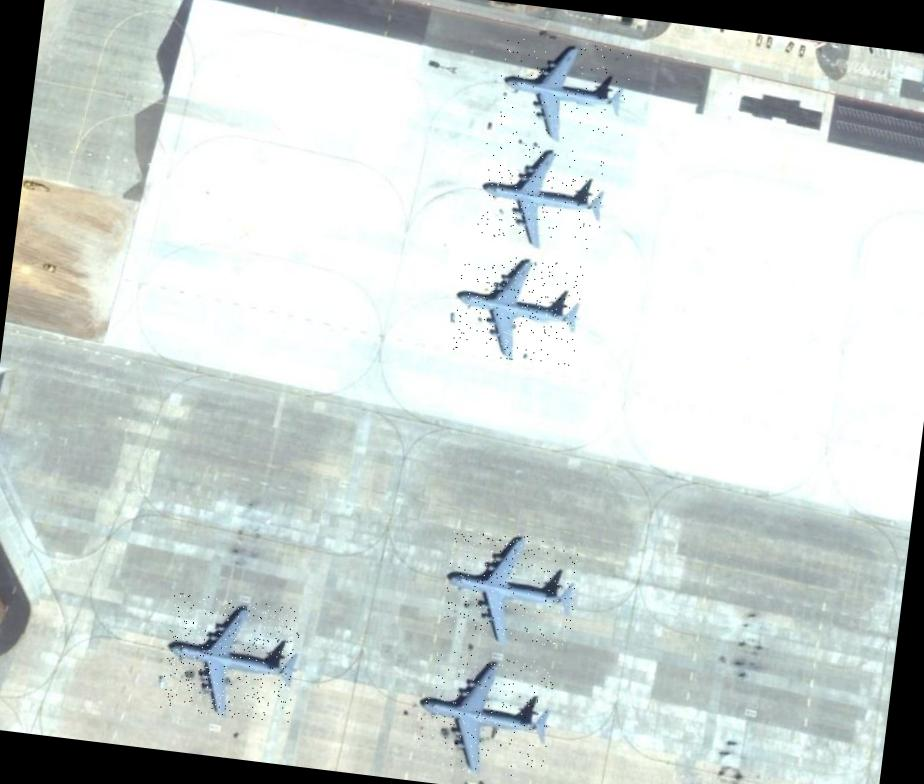A4: (415, 648, 556, 780), (161, 592, 302, 724), (442, 526, 582, 648), (450, 252, 587, 368), (494, 34, 633, 148), (475, 139, 611, 251)
